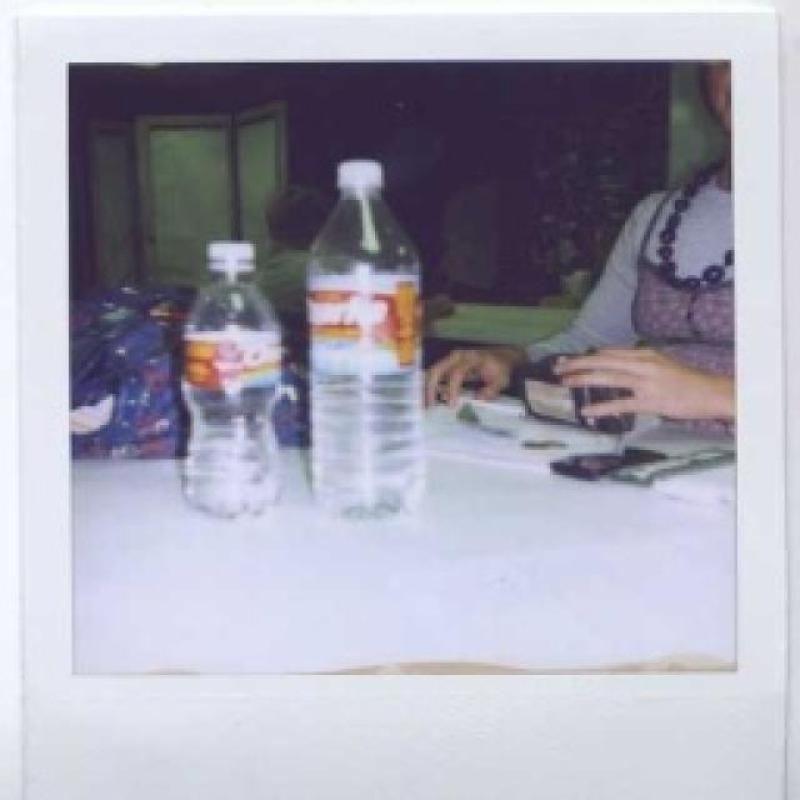botella: (304, 161, 434, 527), (181, 235, 281, 520)
